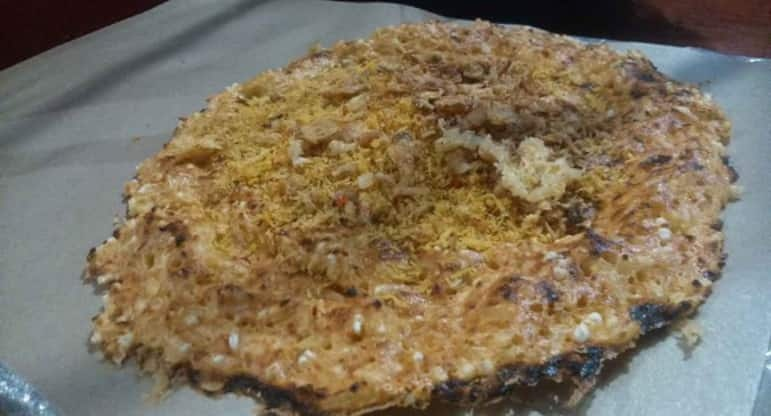kerak_telor: (82, 19, 740, 406)
